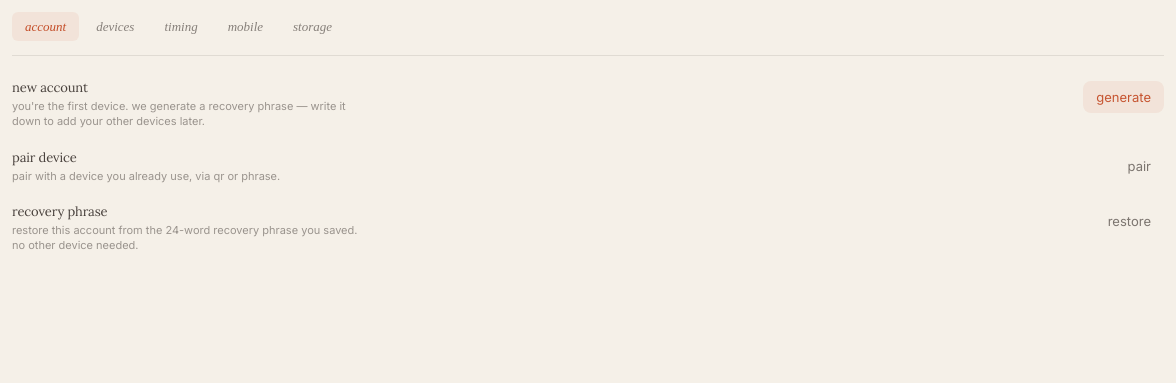
SyncSettings › storage tab › shows the local-only explainers and gc control even when sync was never configured
Click the button with class "sync-tab" showing "storage".
click(312, 26)  # box [280, 12, 345, 41]
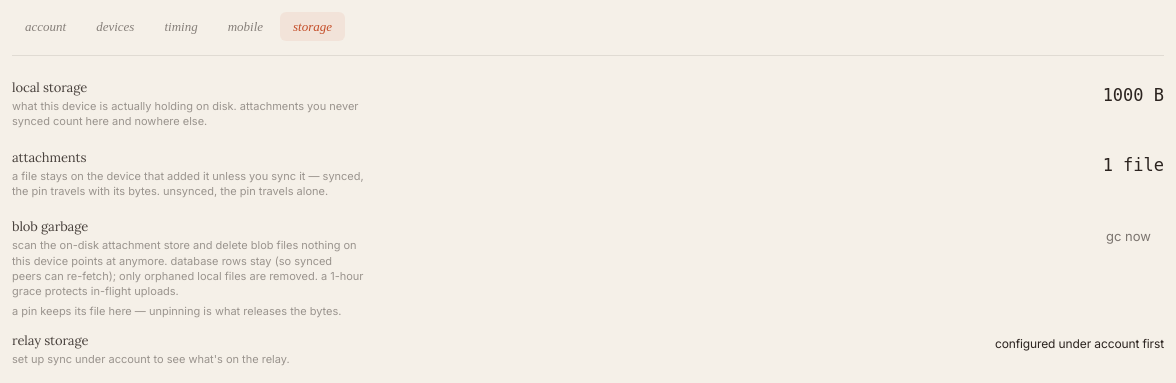
Expected: the text "a file stays on the device that added it unless you sync it — synced, the pin travels with its bytes. unsynced, the pin travels alone." is shown, [12, 169, 364, 198]
Expected: the text "a pin keeps its file here — unpinning is what releases the bytes." is shown, [12, 304, 364, 319]
Expected: the button "gc now" is shown, [1093, 220, 1164, 252]
